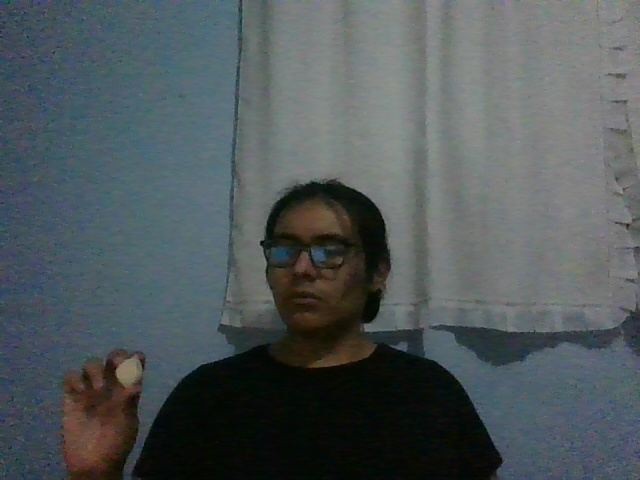goma: (115, 358, 143, 388)
